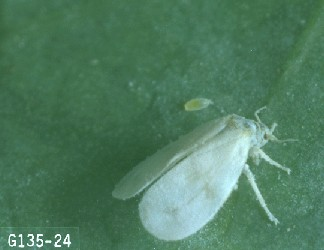whitefly: (108, 104, 302, 243)
